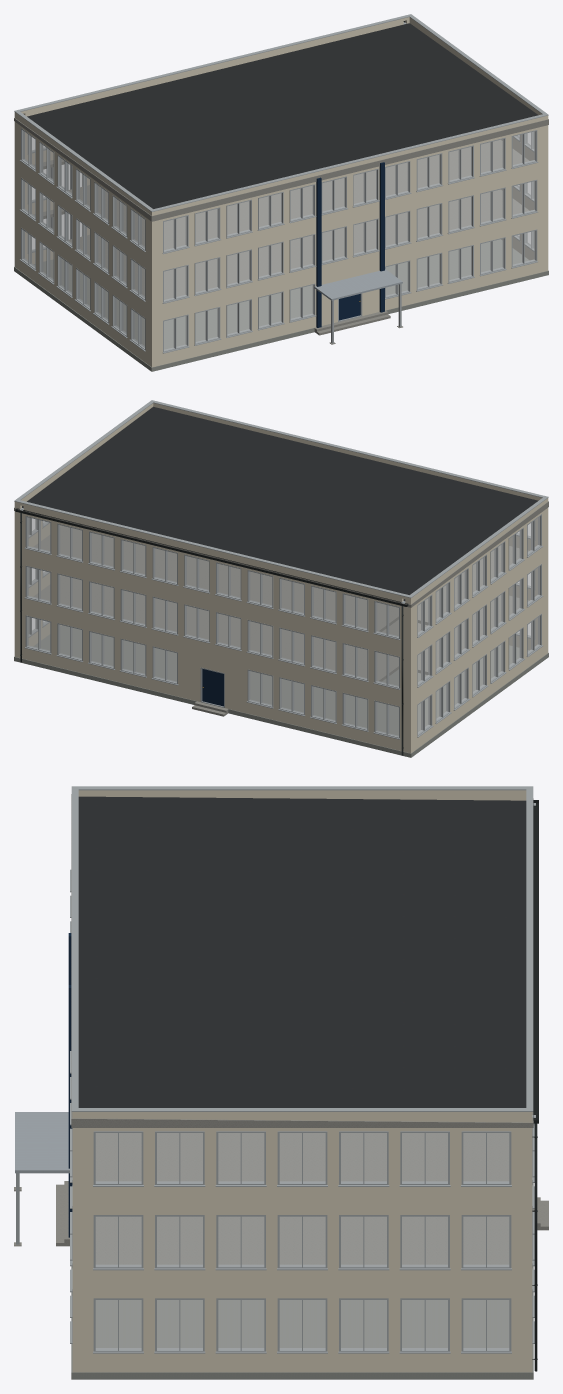
File: office-mid.glb
The picture shows the model from 3 angles, top to bottom: view 1: azimuth 30°, elevation 25°; view 2: azimuth 150°, elevation 25°; view 3: azimuth 270°, elevation 25°; orthographic projection. The views are drawn at different scales.
Parts seen in each view (by area): view 1: Office roof finite membrane with rear fall, Office wall and parapet continuous united envelope, Office back level1 bay1 finite glazing, Office back level1 bay1 finite seated frame, Office level2 finite structural slab with circulation void, Office projecting grounded plinth, Office back main entrance closed finite door leaf, Office main entry finite entrance canopy; view 2: Office roof finite membrane with rear fall, Office wall and parapet continuous united envelope, Office back level1 bay1 finite glazing, Office back level1 bay1 finite seated frame, Office level2 finite structural slab with circulation void, Office projecting grounded plinth, Office roof collector underside hanger 0, Office back main entrance closed finite door leaf; view 3: Office roof finite membrane with rear fall, Office wall and parapet continuous united envelope, Office back level1 bay1 finite glazing, Office level2 finite structural slab with circulation void, Office back level1 bay1 finite seated frame, Office projecting grounded plinth, Office main entry finite entrance canopy, Office roof collector underside hanger 0, Office back main entrance closed finite door leaf.
Part boxes in pixels (left/top/right/bottom): Office roof finite membrane with rear fall: left=27, top=23, right=538, bottom=208; Office wall and parapet continuous united envelope: left=14, top=17, right=548, bottom=367; Office back level1 bay1 finite glazing: left=23, top=131, right=535, bottom=350; Office back level1 bay1 finite seated frame: left=14, top=14, right=548, bottom=353; Office level2 finite structural slab with circulation void: left=14, top=118, right=548, bottom=344; Office projecting grounded plinth: left=14, top=239, right=548, bottom=371; Office back main entrance closed finite door leaf: left=316, top=162, right=384, bottom=327; Office main entry finite entrance canopy: left=314, top=269, right=402, bottom=300; Office roof finite membrane with rear fall: left=22, top=406, right=538, bottom=601; Office wall and parapet continuous united envelope: left=14, top=403, right=548, bottom=753; Office back level1 bay1 finite glazing: left=27, top=517, right=539, bottom=736; Office back level1 bay1 finite seated frame: left=14, top=400, right=548, bottom=739; Office level2 finite structural slab with circulation void: left=14, top=501, right=548, bottom=716; Office projecting grounded plinth: left=14, top=625, right=548, bottom=757; Office roof collector underside hanger 0: left=15, top=508, right=408, bottom=755; Office back main entrance closed finite door leaf: left=202, top=669, right=223, bottom=706; Office roof finite membrane with rear fall: left=78, top=796, right=526, bottom=1107; Office wall and parapet continuous united envelope: left=72, top=790, right=532, bottom=1372; Office back level1 bay1 finite glazing: left=96, top=1133, right=508, bottom=1349; Office level2 finite structural slab with circulation void: left=14, top=794, right=548, bottom=1264; Office back level1 bay1 finite seated frame: left=16, top=786, right=535, bottom=1353; Office projecting grounded plinth: left=71, top=1183, right=533, bottom=1379; Office main entry finite entrance canopy: left=15, top=1112, right=69, bottom=1173; Office roof collector underside hanger 0: left=532, top=800, right=538, bottom=1371; Office back main entrance closed finite door leaf: left=68, top=933, right=72, bottom=1237.
Bounding box in the file's own units: 30.2 × 11.6 × 20.94.
10 materials, 8 textured.
